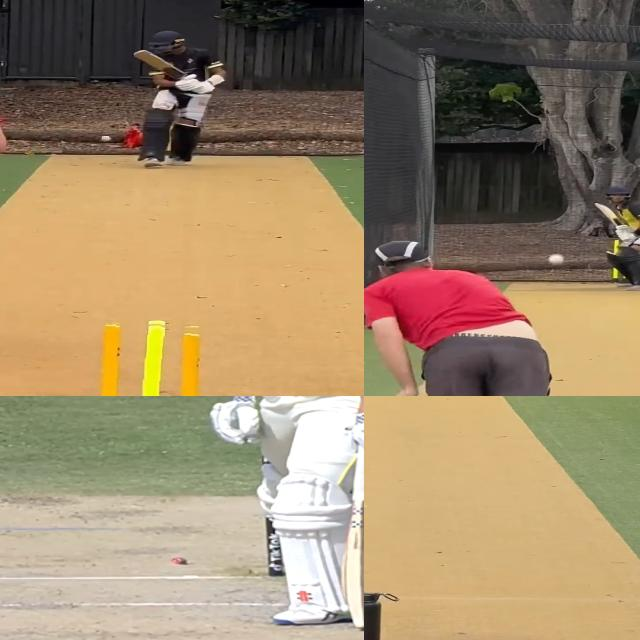Cricket ball: (545, 252, 567, 266), (99, 135, 113, 143)
Stumps: (78, 319, 221, 396)
